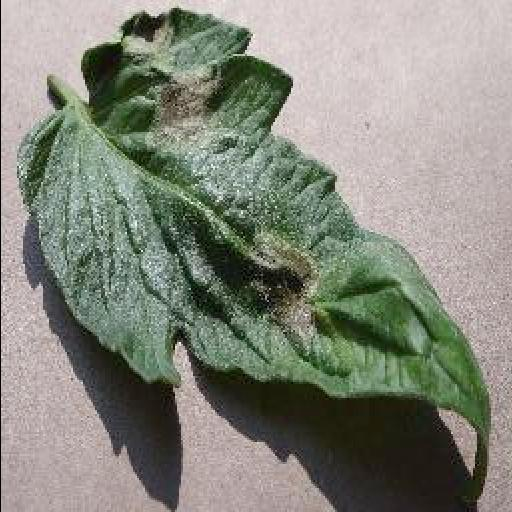disease_tomato: (12, 8, 494, 438)
